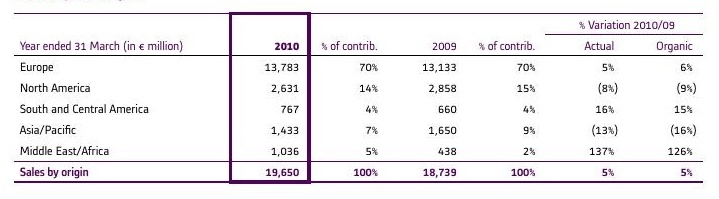table: (0, 0, 719, 199)
